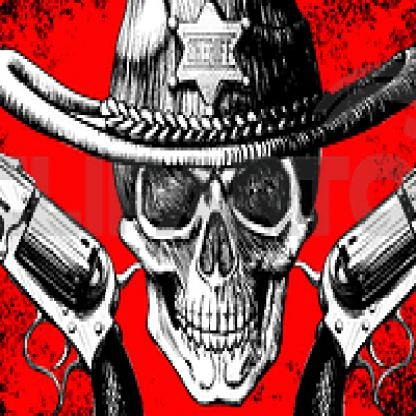gun: (0, 6, 154, 413), (289, 15, 414, 413)
